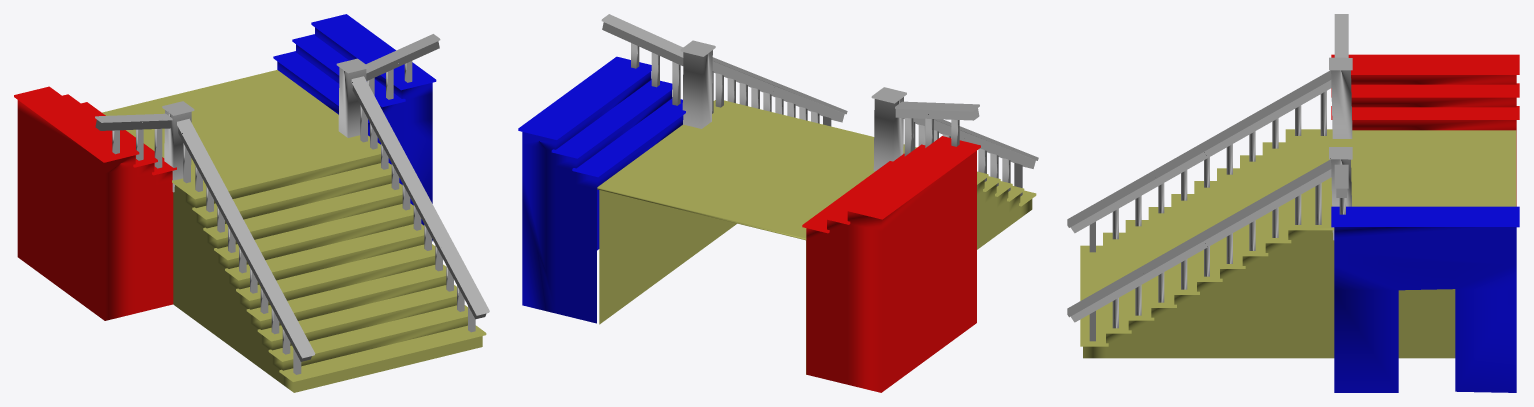
File: STAIRSUPDATEDALLINONE.fbx
3 renders of one model, left to right at view 1: azimuth 30°, elevation 25°; view 2: azimuth 150°, elevation 25°; view 3: azimuth 270°, elevation 25°, orthographic. The views are drawn at different scales.
Visible parts, largest first — view 1: Main_Stair2, Stairs_Left, Stairs_Left1, polySurface41, polySurface58, polySurface47, polySurface53, polySurface44, polySurface59; view 2: Main_Stair2, Stairs_Left, Stairs_Left1, polySurface47, polySurface53, polySurface41, polySurface44, polySurface58, polySurface59; view 3: Main_Stair2, Stairs_Left1, Stairs_Left, polySurface41, polySurface58, polySurface53, polySurface47, polySurface59, polySurface44.
Boxes of the visible parts, x1,y1,x2,y2 form: Main_Stair2: (102,70,486,392); Stairs_Left: (14,86,176,320); Stairs_Left1: (273,14,436,241); polySurface41: (351,76,489,319); polySurface58: (177,118,315,361); polySurface47: (336,58,368,137); polySurface53: (162,101,194,192); polySurface44: (366,34,440,80); polySurface59: (95,113,172,130); Main_Stair2: (597,100,1036,374); Stairs_Left: (802,136,980,392); Stairs_Left1: (518,56,685,323); polySurface47: (680,40,715,128); polySurface53: (871,87,906,171); polySurface41: (712,57,847,122); polySurface44: (601,14,683,65); polySurface58: (904,118,1038,168); polySurface59: (895,101,979,120); Main_Stair2: (1080,129,1516,358); Stairs_Left1: (1331,206,1519,392); Stairs_Left: (1331,54,1519,206); polySurface41: (1067,159,1331,322); polySurface58: (1067,70,1331,233); polySurface53: (1329,57,1352,138); polySurface47: (1329,147,1352,240); polySurface59: (1334,14,1348,57); polySurface44: (1334,164,1348,197).
Size of the model in its own units: 720 by 408 by 793.
